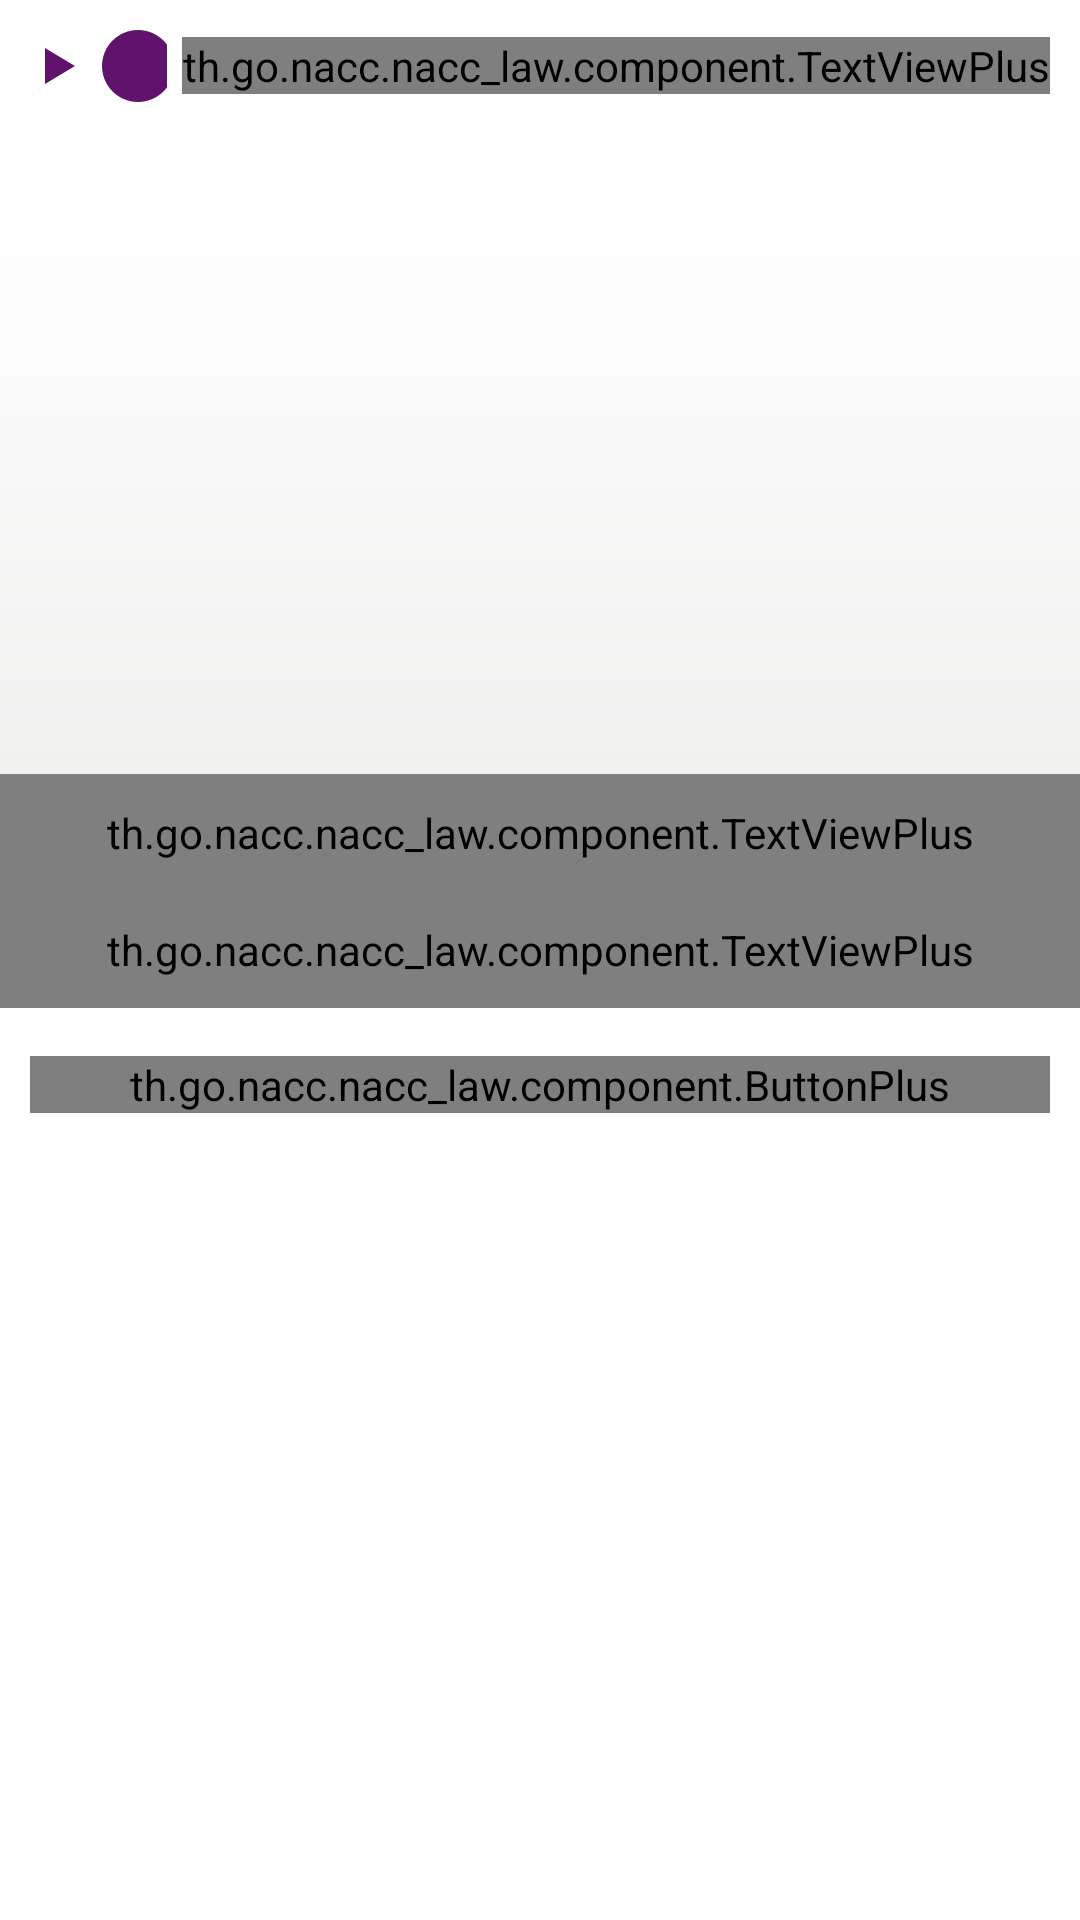

Locate icon controls on the screen. Image size 1080*1920, boxes as bbox=[x1, y1, x2, y2].
play: bbox=[45, 48, 75, 84]
